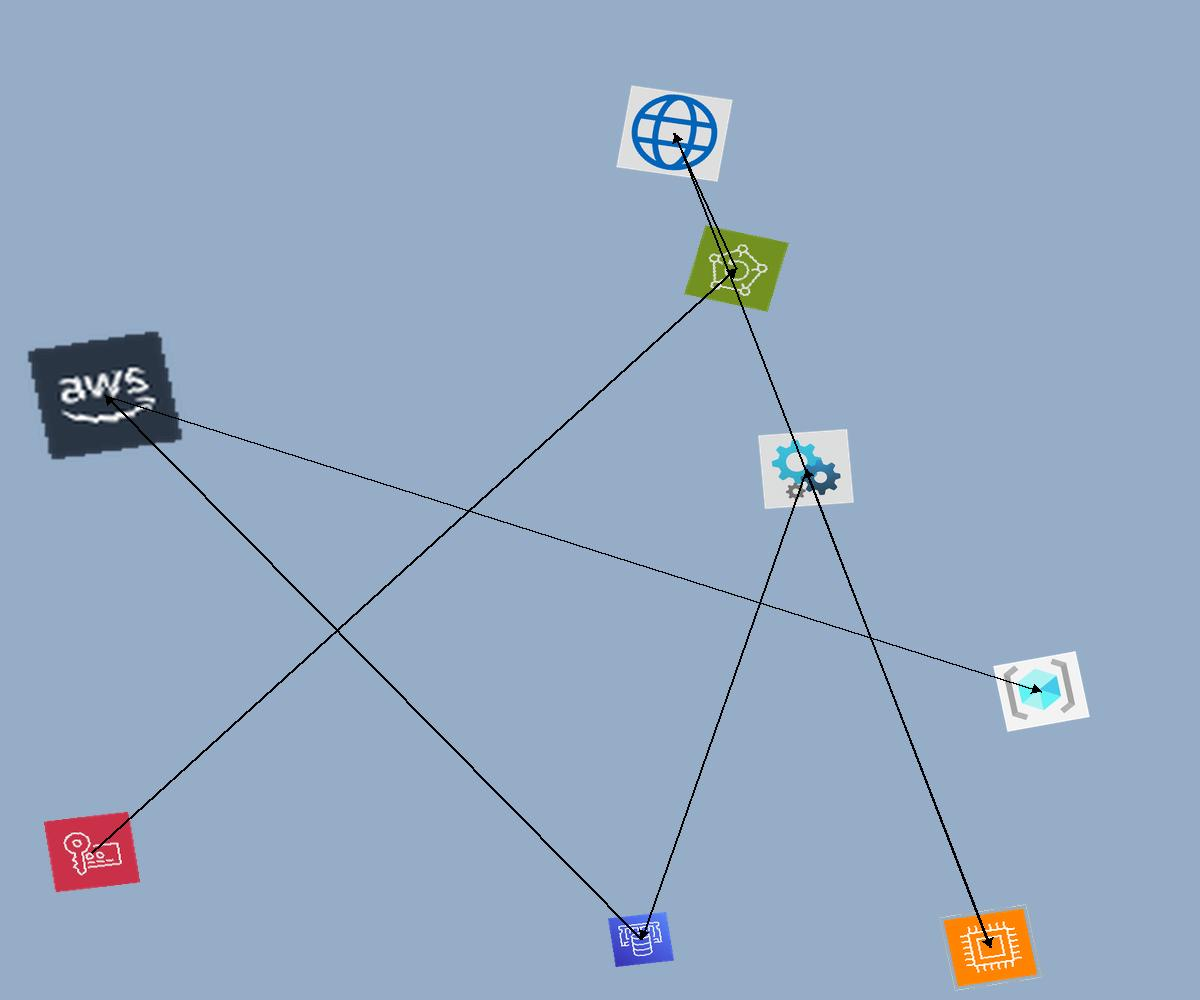AWS-Backup: (684, 225, 789, 312)
AWS-Category_Compute: (937, 903, 1044, 992)
AWS-Cloud-logo: (25, 329, 185, 462)
AWS-ElastiCache: (608, 912, 674, 967)
AWS-Key-Management-Service: (43, 811, 141, 893)
Azure_api: (758, 429, 854, 509)
Azure_http: (616, 85, 733, 182)
Azure_resource_group: (993, 651, 1090, 732)
